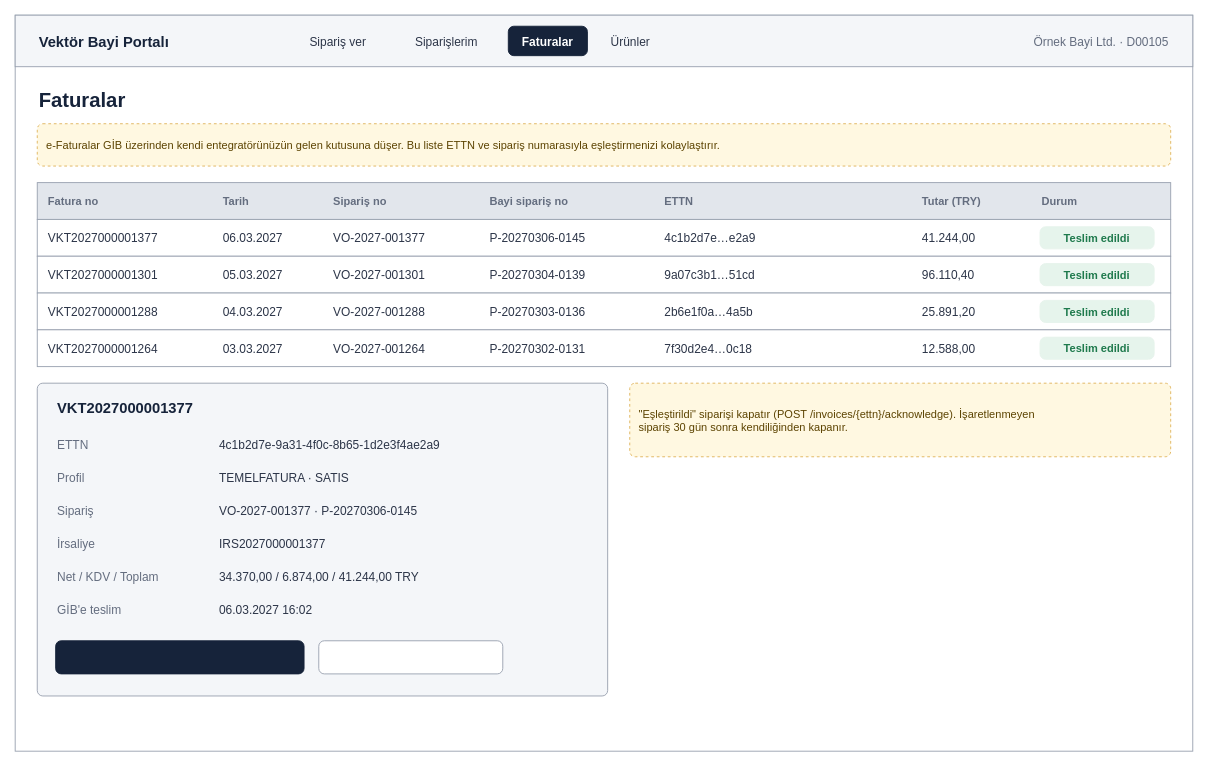
Image size: 1208x766. Some labels were removed from this diagram. Each missing label, with the centre of its shape:
"Eşleştirildi olarak işaretle" goes at (179,657).
"Farklı tutar bildir" goes at (410,657).
